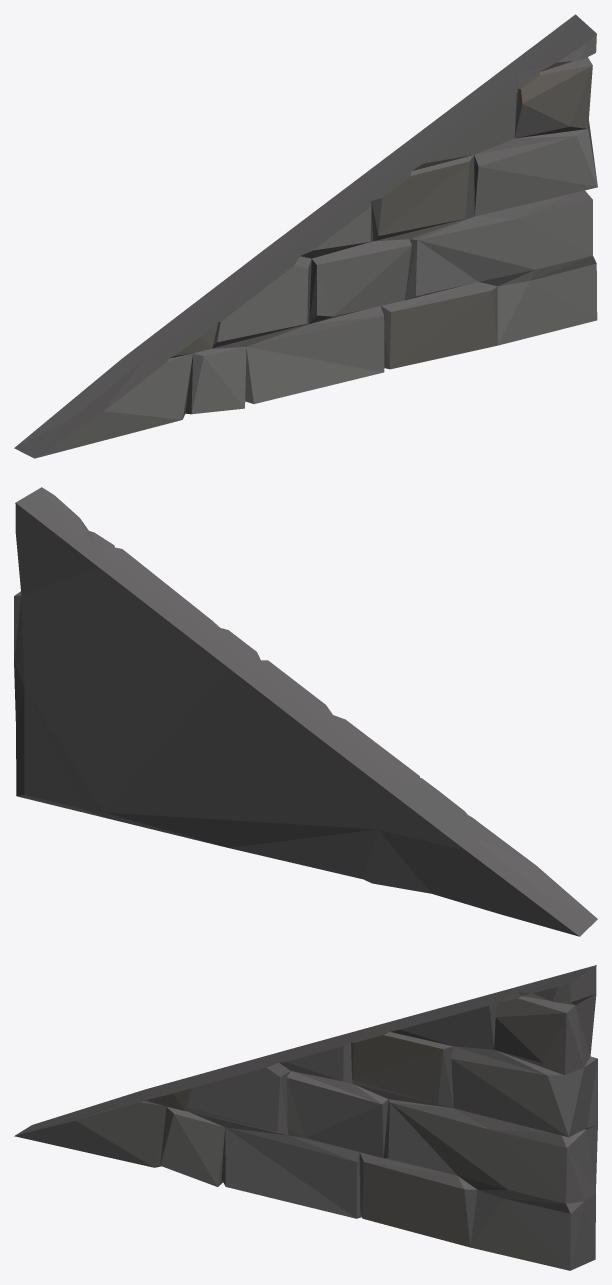
Rendered from SM_Env_Stairs_Wall_01.FBX.
The picture shows the model from 3 angles, top to bottom: view 1: azimuth 30°, elevation 25°; view 2: azimuth 150°, elevation 25°; view 3: azimuth 330°, elevation 25°; orthographic projection.
Parts seen in each view (by area): view 1: SM_Env_Stairs_Wall_01; view 2: SM_Env_Stairs_Wall_01; view 3: SM_Env_Stairs_Wall_01.
Boxes of the visible parts, box(x1,y1,x2,y2) form: SM_Env_Stairs_Wall_01: box(14, 14, 597, 458); SM_Env_Stairs_Wall_01: box(14, 487, 597, 936); SM_Env_Stairs_Wall_01: box(14, 965, 597, 1270).
Size of what is drawn, in the model's own units: 505 by 42.67 by 253.
